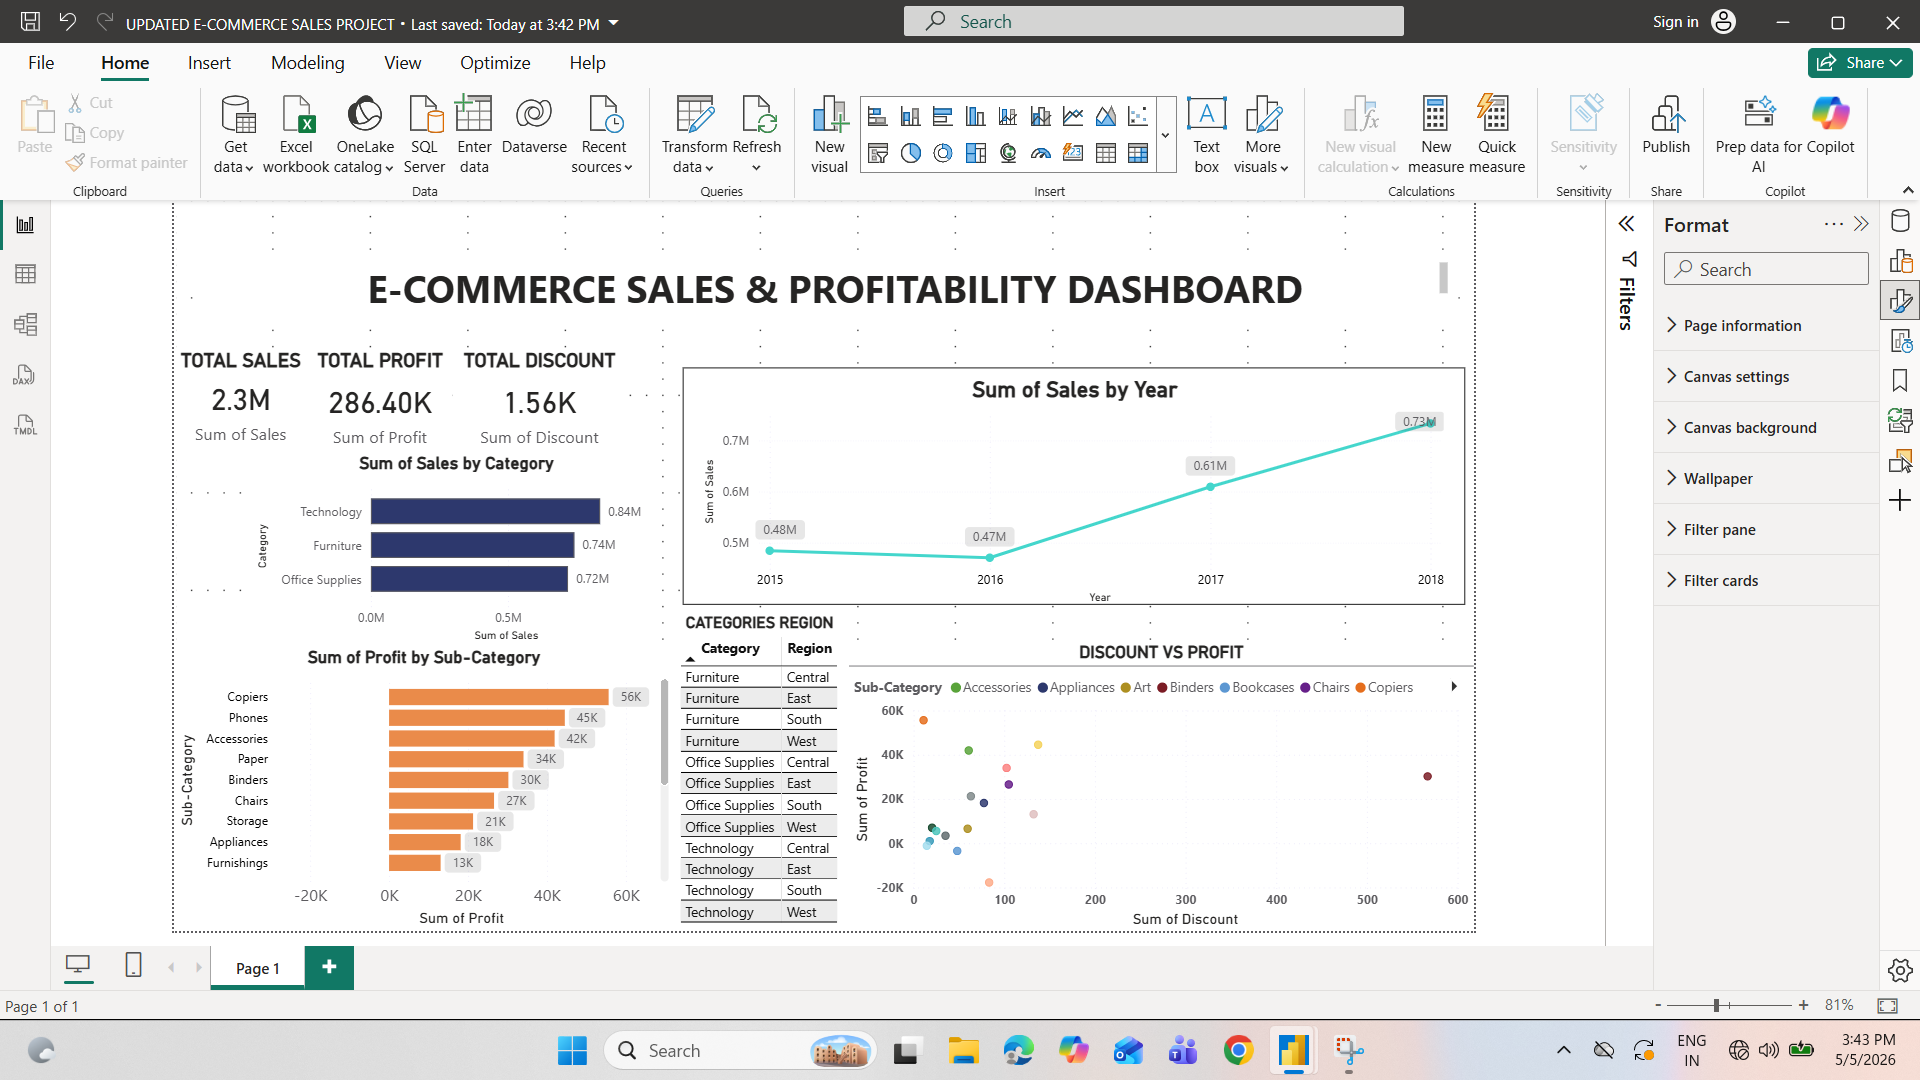

This screenshot's page, from the dashboard's own definition file:
{"tool":"powerbi","page":{"name":"Page 1","canvas":[1280,720],"ordinal":0},"visuals":[{"type":"barChart","fields":{"Category":["Superstore.Category"],"Y":["Sum(Superstore.Sales)"]},"box":[6.2,203.1,425.8,221.5],"z":0},{"type":"clusteredBarChart","fields":{"Category":["Superstore.Sub-Category"],"Y":["Sum(Superstore.Profit)"]},"box":[0,436.9,438.2,280.6],"z":1},{"type":"scatterChart","fields":{"X":["Sum(Superstore.Discount)"],"Y":["Sum(Superstore.Profit)"],"Series":["Superstore.Sub-Category"]},"box":[640,424.6,615.4,292.9],"z":2},{"type":"lineChart","fields":{"Category":["Superstore.Order Date.Variation.Date Hierarchy.Year","Superstore.Order Date.Variation.Date Hierarchy.Quarter","Superstore.Order Date.Variation.Date Hierarchy.Month","Superstore.Order Date.Variation.Date Hierarchy.Day"],"Y":["Sum(Superstore.Sales)"]},"box":[465.2,203.1,777.8,221.5],"z":3},{"type":"tableEx","fields":{"Values":["Superstore.Category","Superstore.Region"]},"box":[465.2,424.6,174.8,295.4],"z":4},{"type":"textbox","box":[40.6,54.2,1239.4,113.2],"z":5}]}

Visuals, with their boxes on the page's 1280x720 design canvas (x1, y1, x2, y2). These are canvas units, not pixel positions in the 1920x1080 screenshot, which may show the page scaled, cropped or inside an application window:
barChart - Superstore.Category x Sum(Superstore.Sales): (6,203,432,425)
clusteredBarChart - Superstore.Sub-Category x Sum(Superstore.Profit): (0,437,438,718)
scatterChart - Sum(Superstore.Discount) x Sum(Superstore.Profit): (640,425,1255,718)
lineChart - Superstore.Order Date.Variation.Date Hierarchy.Year x Superstore.Order Date.Variation.Date Hierarchy.Quarter: (465,203,1243,425)
tableEx - Superstore.Category x Superstore.Region: (465,425,640,720)
textbox: (41,54,1280,167)
